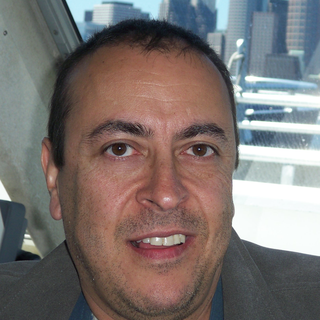eye: (96, 138, 144, 164), (177, 139, 223, 164)
